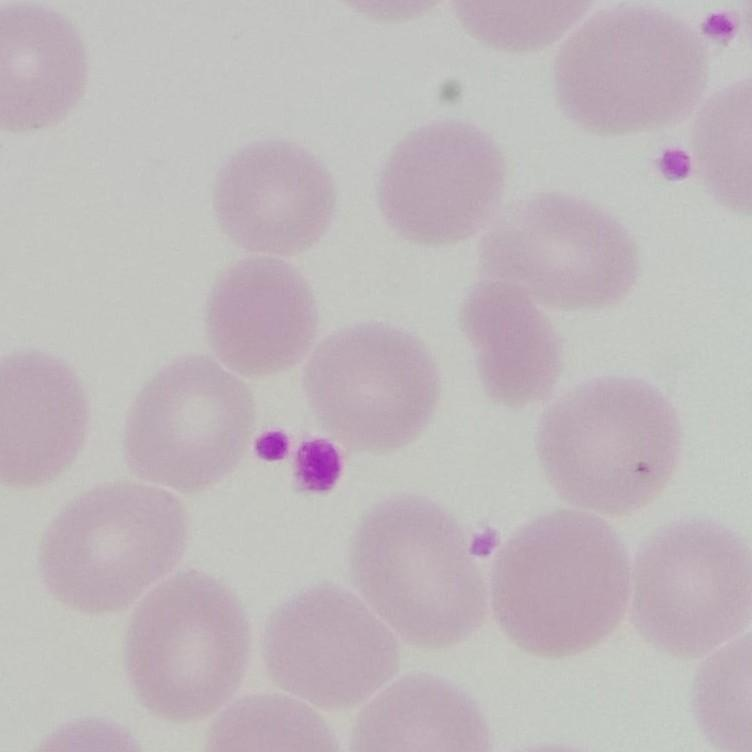Uninfected: (347, 492, 489, 649), (43, 479, 198, 617), (480, 189, 643, 316), (553, 7, 710, 136), (115, 354, 253, 495), (130, 567, 251, 727), (497, 507, 623, 657), (303, 317, 428, 468), (627, 514, 752, 661), (540, 377, 678, 510), (263, 581, 401, 709), (377, 121, 504, 250), (213, 132, 334, 254), (458, 277, 562, 412), (208, 251, 316, 375)
